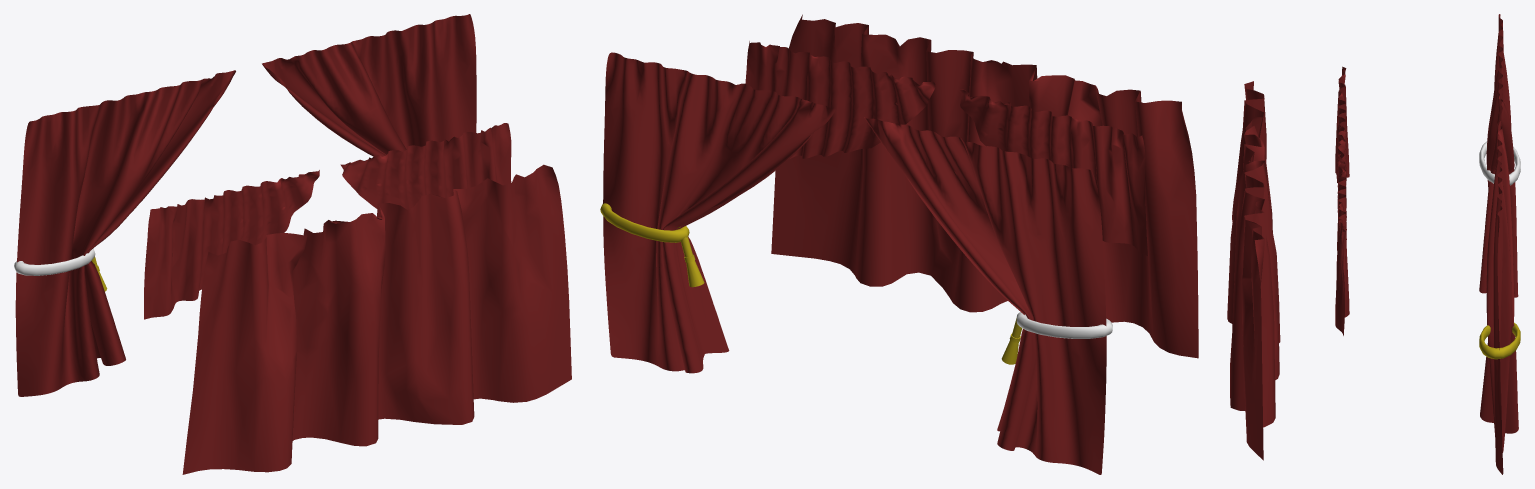
File: telones_completos_vers1.fbx
3 views of the same model, side by side, from view 1: azimuth 30°, elevation 25°; view 2: azimuth 150°, elevation 25°; view 3: azimuth 270°, elevation 25° (orthographic). The views are drawn at different scales.
Parts seen in each view (by area): view 1: Plane161, Plane184, Dummy003, Plane.006, Plane.005, Torus002; view 2: Plane161, Dummy003, Plane184, Plane.006, Plane.005, Torus002; view 3: Plane161, Dummy003, Plane184, Plane.005, Plane.006, Torus002.
Part boxes in pixels (x1,y1,x2,y2): Plane161: (182, 164, 571, 474); Plane184: (15, 70, 235, 396); Dummy003: (262, 14, 476, 156); Plane.006: (144, 170, 319, 319); Plane.005: (340, 123, 511, 209); Torus002: (14, 249, 95, 275); Plane161: (771, 14, 1198, 358); Dummy003: (600, 52, 836, 373); Plane184: (864, 117, 1106, 474); Plane.006: (958, 89, 1147, 255); Plane.005: (745, 41, 935, 158); Torus002: (1016, 312, 1112, 338); Plane161: (1227, 81, 1280, 460); Dummy003: (1479, 121, 1520, 474); Plane184: (1479, 14, 1518, 297); Plane.005: (1335, 154, 1349, 335); Plane.006: (1335, 66, 1349, 182); Torus002: (1479, 141, 1520, 185).
Bounding box in the file's own units: 1637 × 929 × 945.
